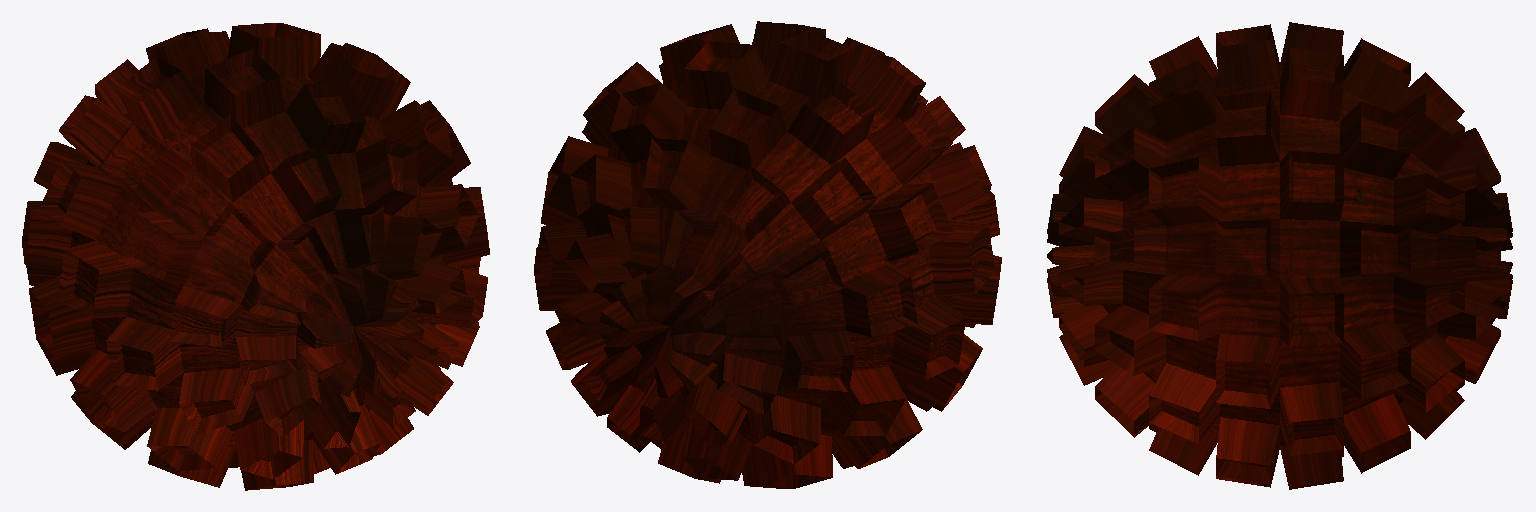
The picture shows the model from 3 angles: view 1: azimuth 30°, elevation 25°; view 2: azimuth 150°, elevation 25°; view 3: azimuth 270°, elevation 25°; orthographic projection.
Visible parts, largest first — view 1: Object.1; view 2: Object.1; view 3: Object.1.
Boxes of the visible parts, x1,y1,x2,y2 form: Object.1: [22, 23, 489, 490]; Object.1: [534, 21, 1001, 488]; Object.1: [1047, 22, 1512, 489].
Bounding box in the file's own units: 42.55 × 42.55 × 42.29.
1 materials, 1 textured.